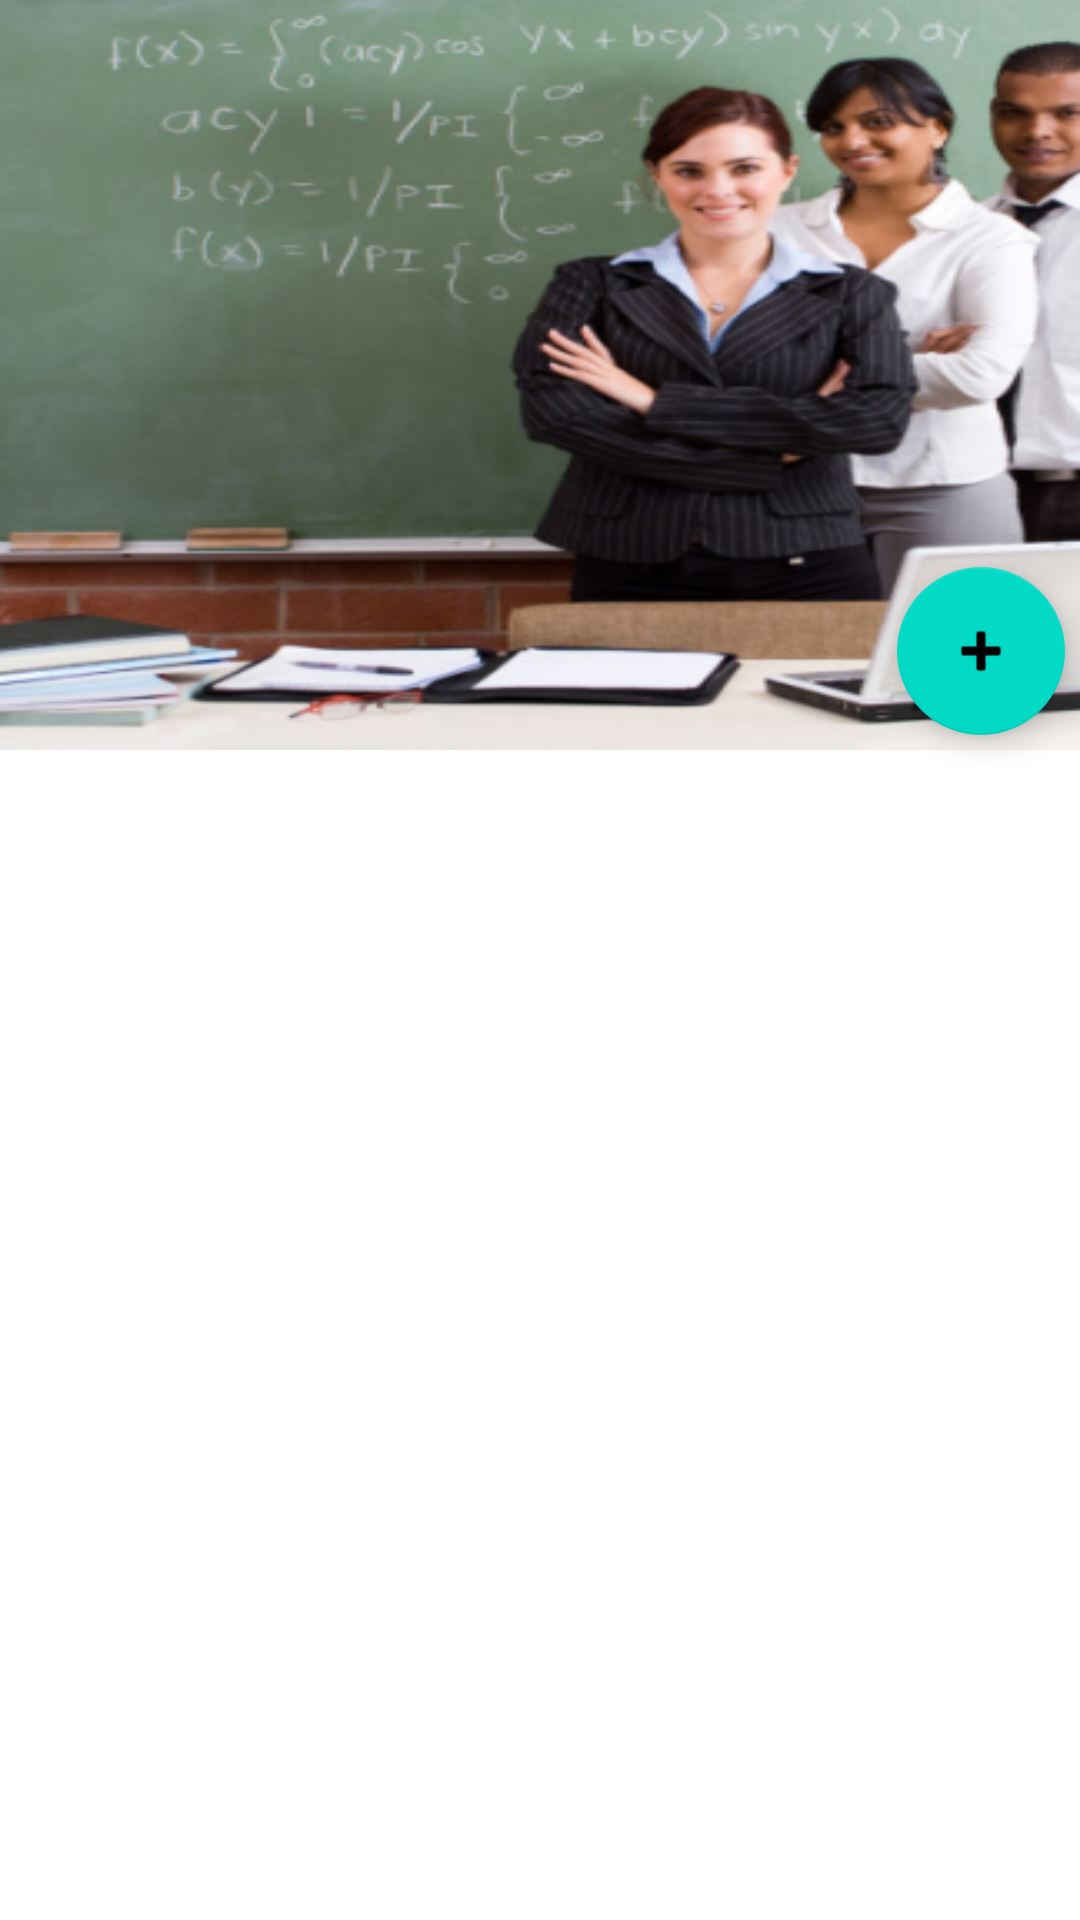

Where icons sit on this 1080 × 1920 app screen, as BBox(x1, y1, x2, y2):
add: BBox(897, 567, 1065, 735)
